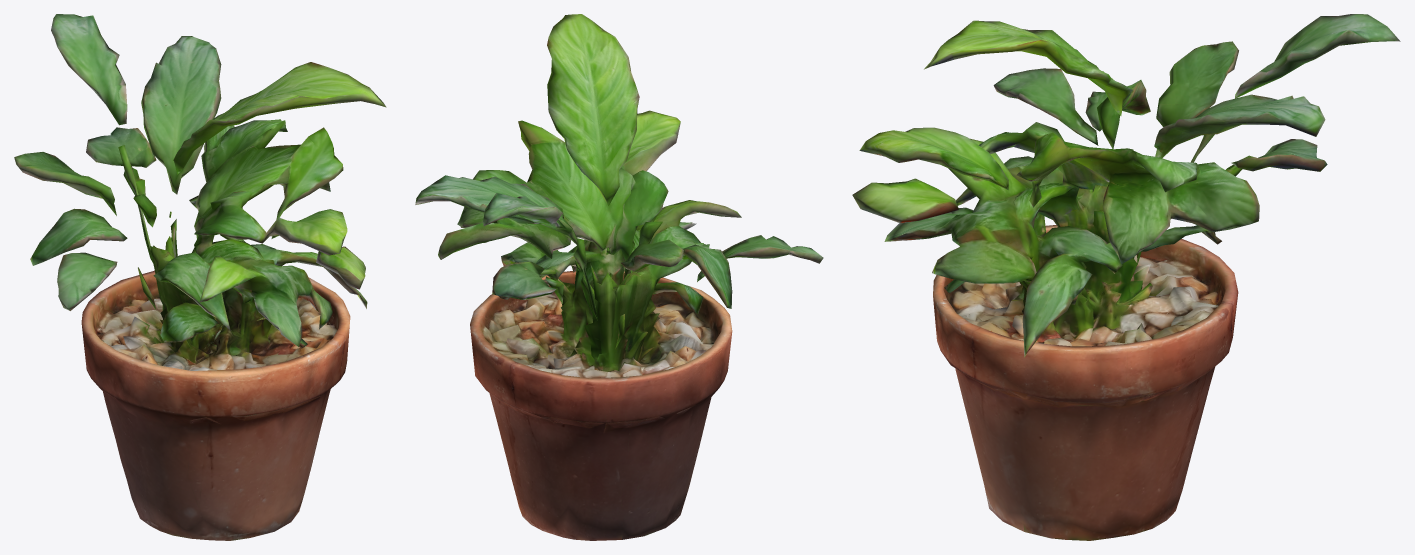
3 renders of one model, left to right at view 1: azimuth 30°, elevation 25°; view 2: azimuth 150°, elevation 25°; view 3: azimuth 270°, elevation 25°, orthographic. The views are drawn at different scales.
Visible parts, largest first — view 1: PEACE_LILLY_5K; view 2: PEACE_LILLY_5K; view 3: PEACE_LILLY_5K.
Boxes of the visible parts, left/top/right/bottom form: PEACE_LILLY_5K: left=14, top=14, right=386, bottom=540; PEACE_LILLY_5K: left=415, top=14, right=823, bottom=540; PEACE_LILLY_5K: left=852, top=14, right=1400, bottom=540.
Size of the model in its own units: 0.2948 by 0.3855 by 0.3812.
Materials: 1 (1 with a texture image).
